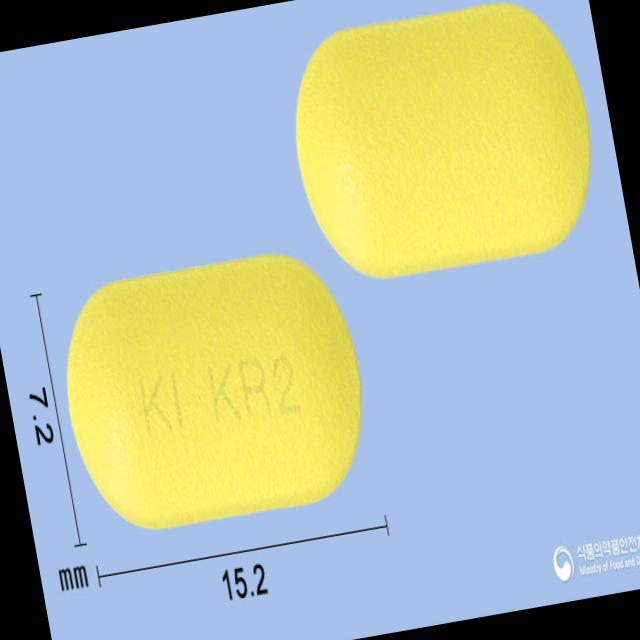Clarithromycin Tab- LGCI: (47, 237, 382, 543)
